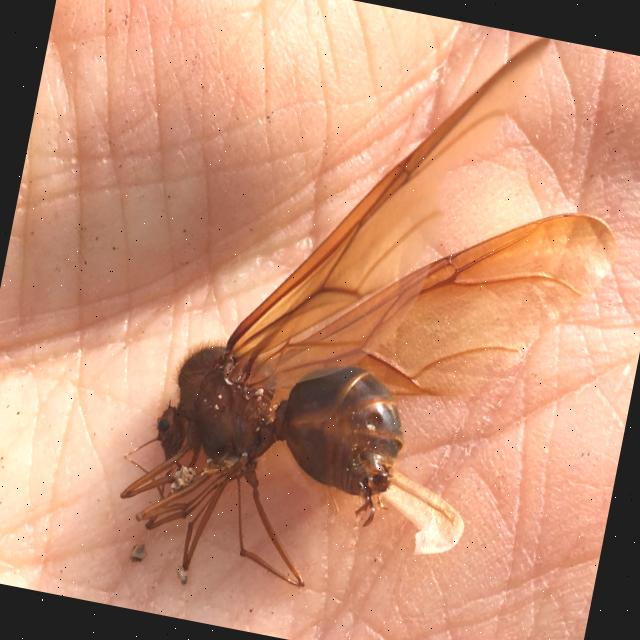Dead-Male-Alate: (101, 0, 640, 640)
